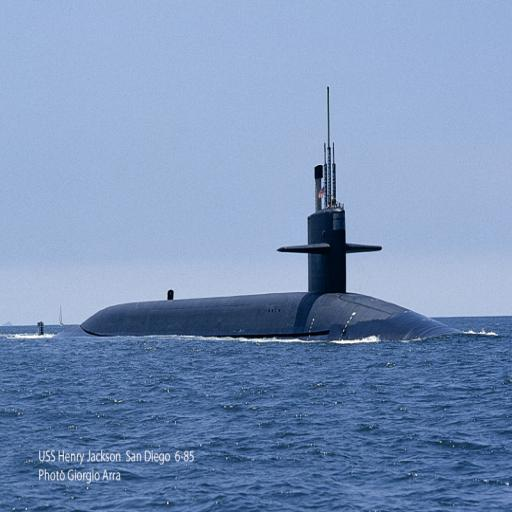submarine: (36, 76, 466, 338)
